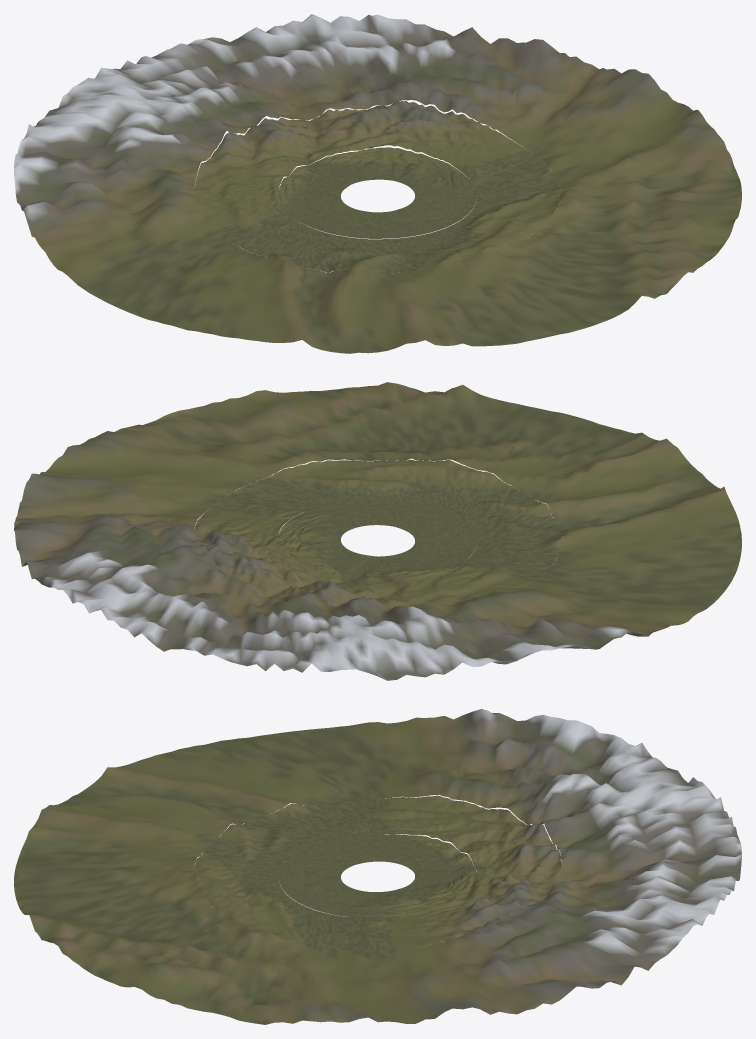
File: mountains.glb
The picture shows the model from 3 angles, top to bottom: view 1: azimuth 30°, elevation 25°; view 2: azimuth 150°, elevation 25°; view 3: azimuth 270°, elevation 25°; orthographic projection.
Visible parts, largest first — view 1: Mountains_Far, Mountains_Mid, Mountains_Near; view 2: Mountains_Far, Mountains_Mid, Mountains_Near; view 3: Mountains_Far, Mountains_Mid, Mountains_Near.
Part boxes in pixels (<box>): Mountains_Far: <box>14,14,741,353</box>; Mountains_Mid: <box>194,101,561,273</box>; Mountains_Near: <box>279,147,476,238</box>; Mountains_Far: <box>14,382,741,680</box>; Mountains_Mid: <box>195,459,561,608</box>; Mountains_Near: <box>279,499,476,580</box>; Mountains_Far: <box>14,709,741,1024</box>; Mountains_Mid: <box>194,795,561,953</box>; Mountains_Near: <box>279,834,476,917</box>.
Size of the model in its own units: 29400 by 1693 by 29400.
